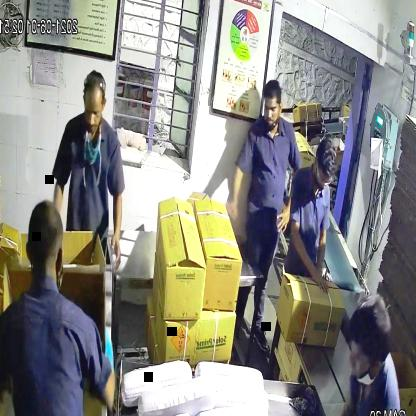goggles: (314, 165, 335, 190)
no_goggles: (80, 100, 107, 124)
